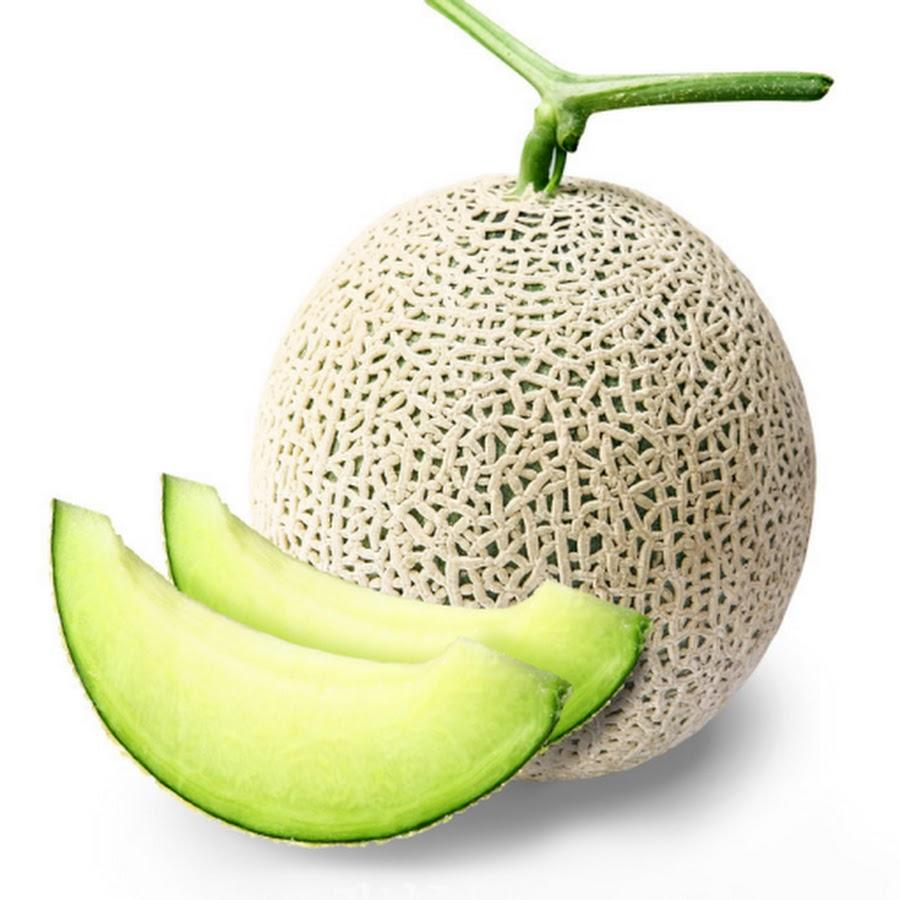Melon Unripe: (254, 0, 831, 780), (51, 475, 647, 843)
